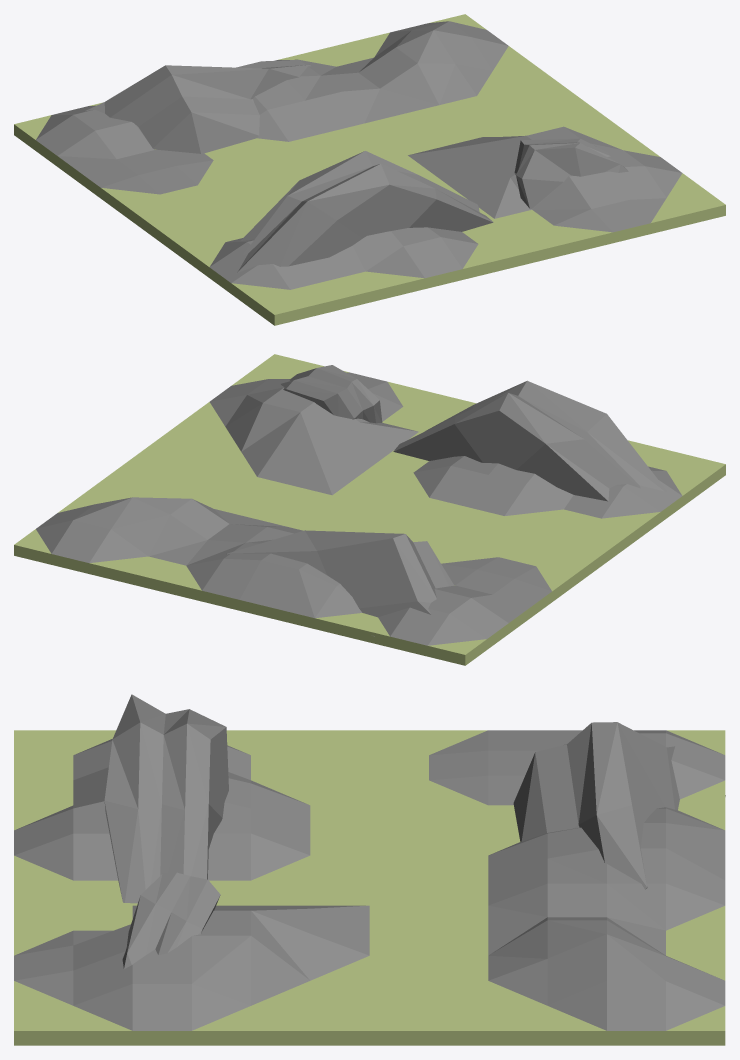
File: Rock III.fbx
The picture shows the model from 3 angles, top to bottom: view 1: azimuth 30°, elevation 25°; view 2: azimuth 150°, elevation 25°; view 3: azimuth 270°, elevation 25°; orthographic projection. The views are drawn at different scales.
Parts seen in each view (by area): view 1: Rock III; view 2: Rock III; view 3: Rock III.
Part boxes in pixels (<box>): Rock III: <box>14,14,725,325</box>; Rock III: <box>14,354,725,665</box>; Rock III: <box>14,694,725,1045</box>.
Bounding box in the file's own units: 1600 × 308 × 1601.
